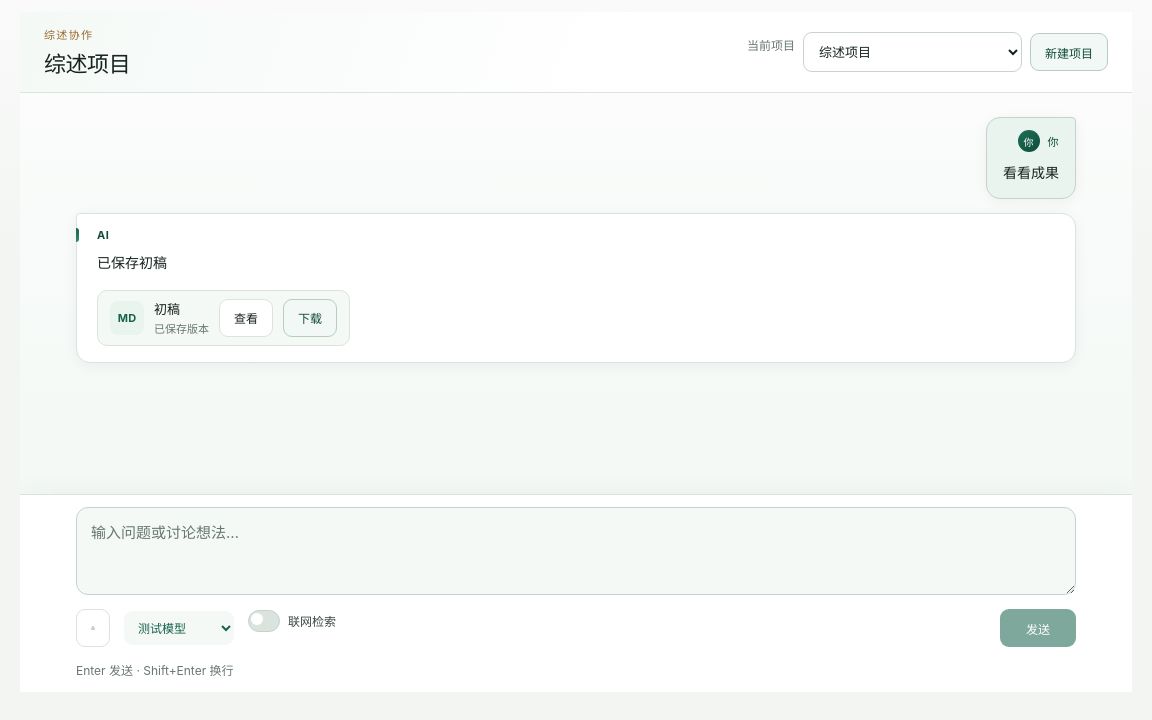
Scenario: project conversation › opens saved documents through the readable view without losing unsent input
Type "尚未发送" into the text box named "输入项目问题".
click(576, 551); type("尚未发送")  # box [76,507,1076,595]
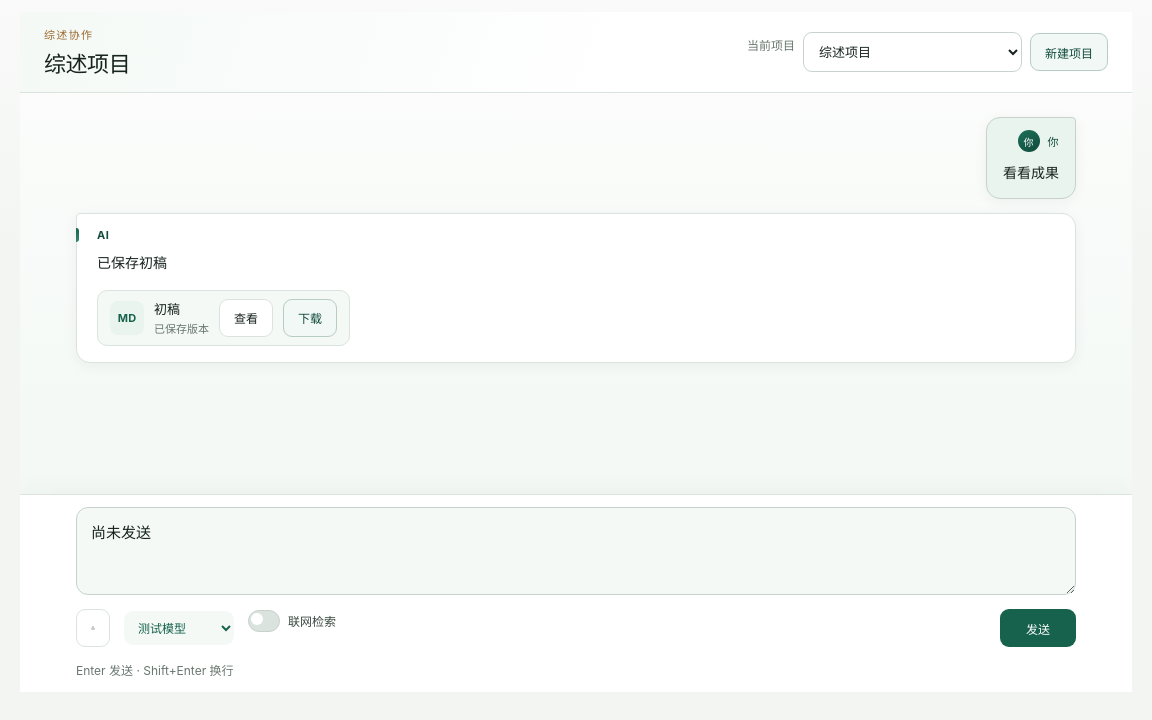
Click the button with aria-label "查看 初稿".
click(246, 318)  # box [219,299,273,337]
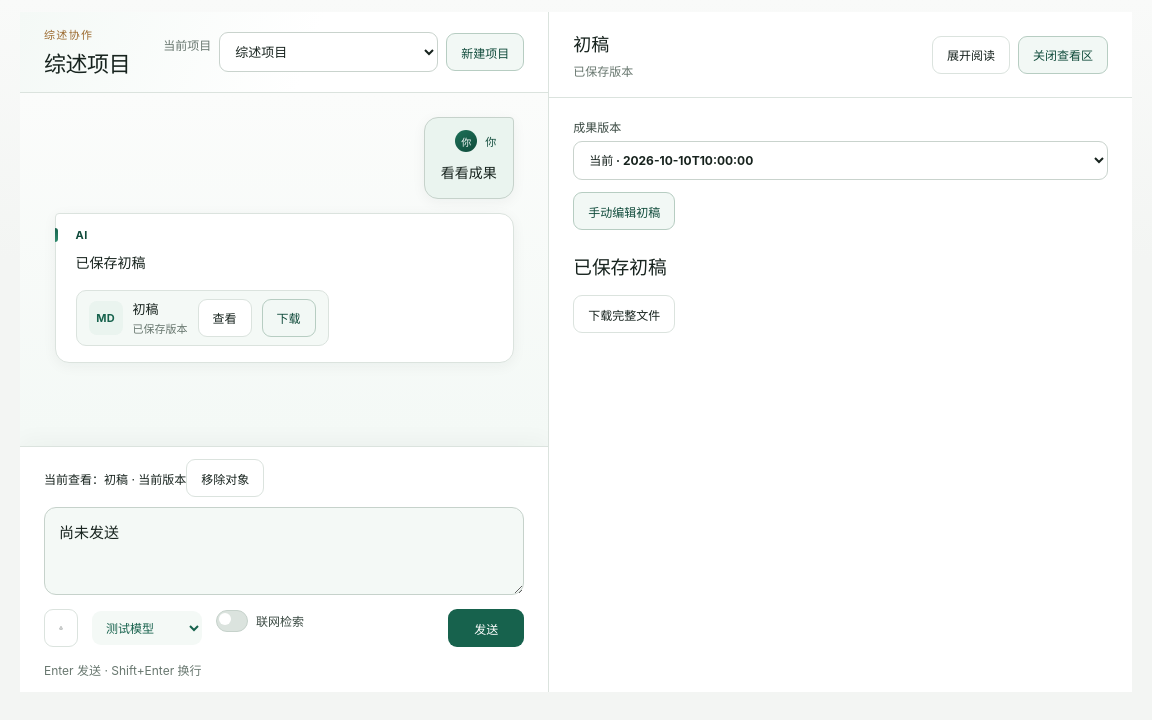
Check: the heading "已保存初稿" is shown, box [573,256,667,280]
